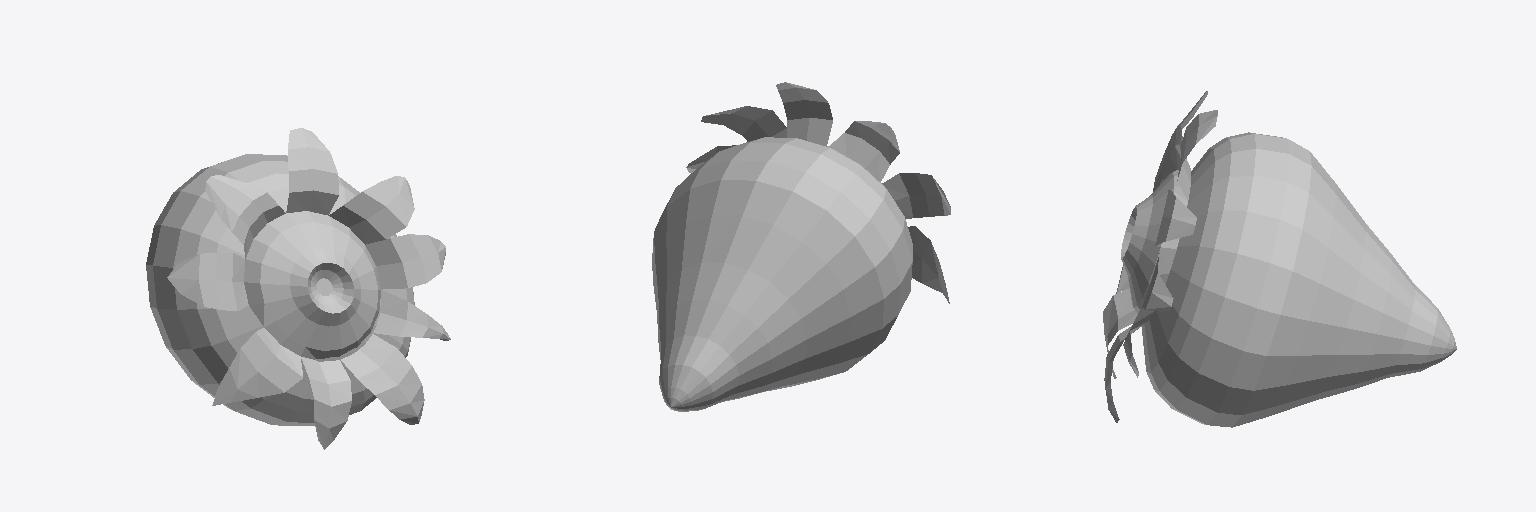
Rendered from Fresa.obj.
The picture shows the model from 3 angles: view 1: azimuth 30°, elevation 25°; view 2: azimuth 150°, elevation 25°; view 3: azimuth 270°, elevation 25°; orthographic projection.
Visible parts, largest first — view 1: Fresa.001_strawberry.000; view 2: Fresa.001_strawberry.000; view 3: Fresa.001_strawberry.000.
Boxes of the visible parts, x1=… form: Fresa.001_strawberry.000: x1=146, y1=128, x2=450, y2=449; Fresa.001_strawberry.000: x1=652, y1=82, x2=950, y2=411; Fresa.001_strawberry.000: x1=1103, y1=91, x2=1456, y2=427.
Bounding box in the file's own units: 0.1319 × 0.1368 × 0.1486.